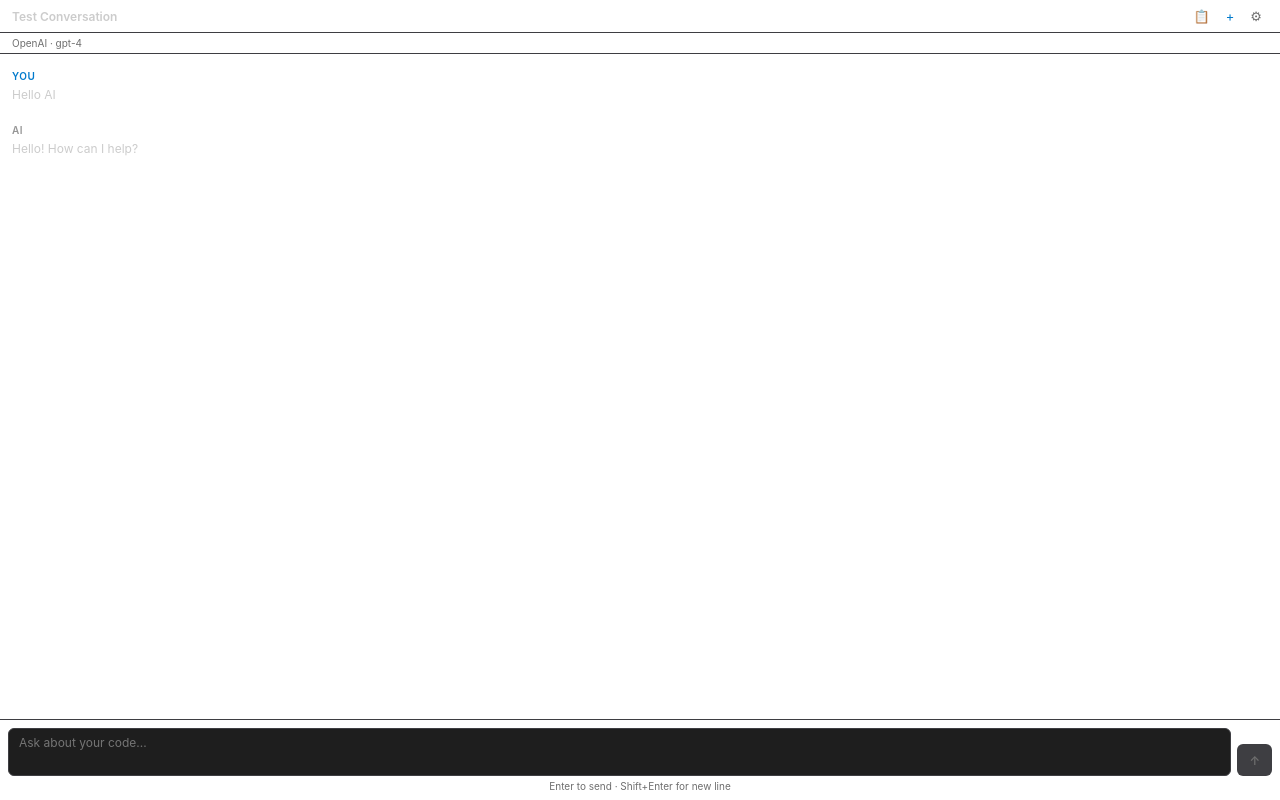
AIChatPanelViewPresenter › shows send button enabled when input has text
Type "Test message" into the text box with placeholder "Ask about your code...".
click(620, 752); type("Test message")  # box x1=8 y1=728 x2=1231 y2=776
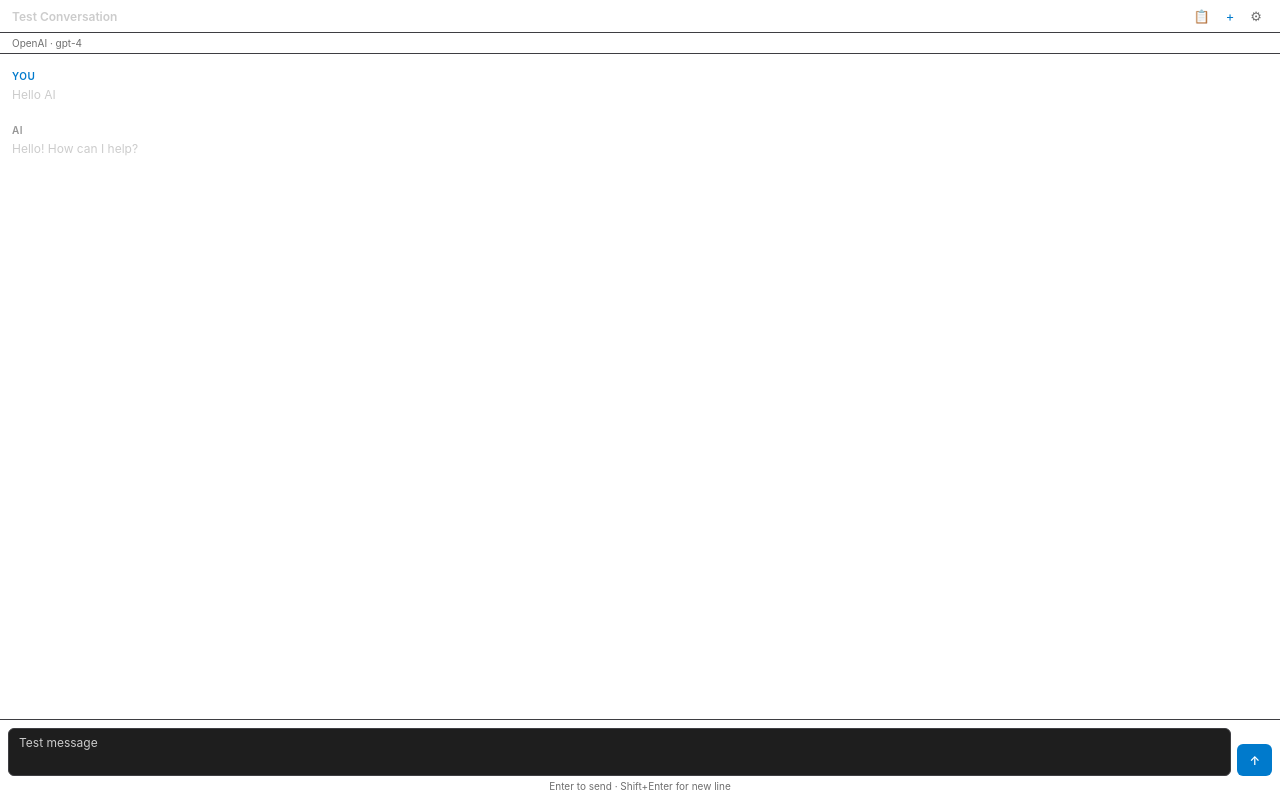
Now the button "↑" is enabled, box x1=1237 y1=744 x2=1272 y2=776
